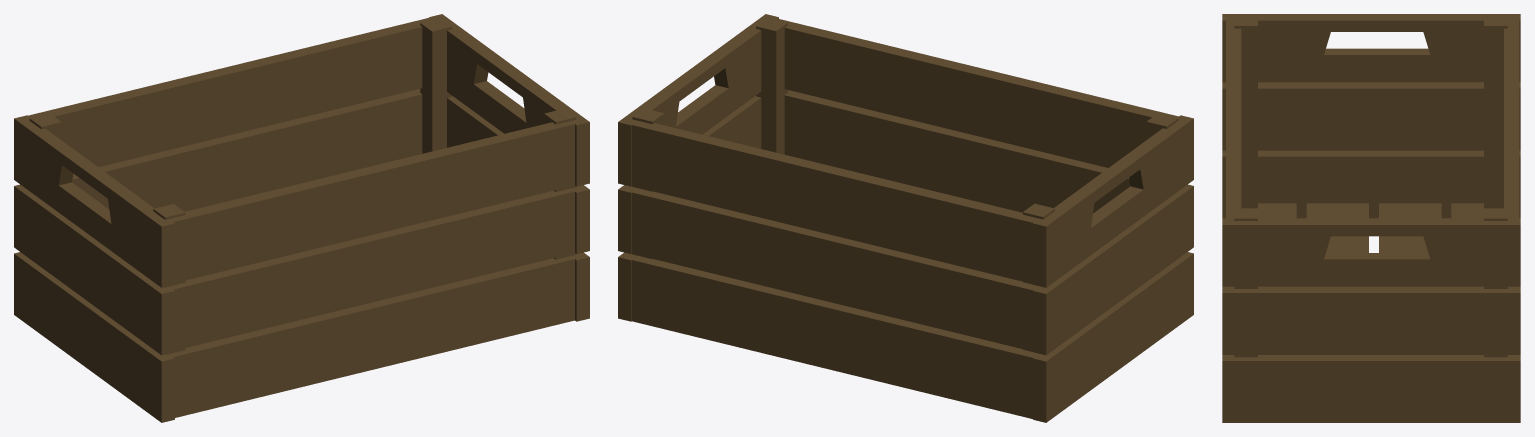
File: WoodenCrate_1.fbx
3 renders of one model, left to right at view 1: azimuth 30°, elevation 25°; view 2: azimuth 150°, elevation 25°; view 3: azimuth 270°, elevation 25°, orthographic.
Visible parts, largest first — view 1: WoodenCrate_1; view 2: WoodenCrate_1; view 3: WoodenCrate_1.
Boxes of the visible parts, x1,y1,x2,y2 form: WoodenCrate_1: (14,14,589,422); WoodenCrate_1: (618,14,1193,422); WoodenCrate_1: (1222,14,1520,422).
Bounding box in the file's own units: 110 × 48.73 × 65.61.
